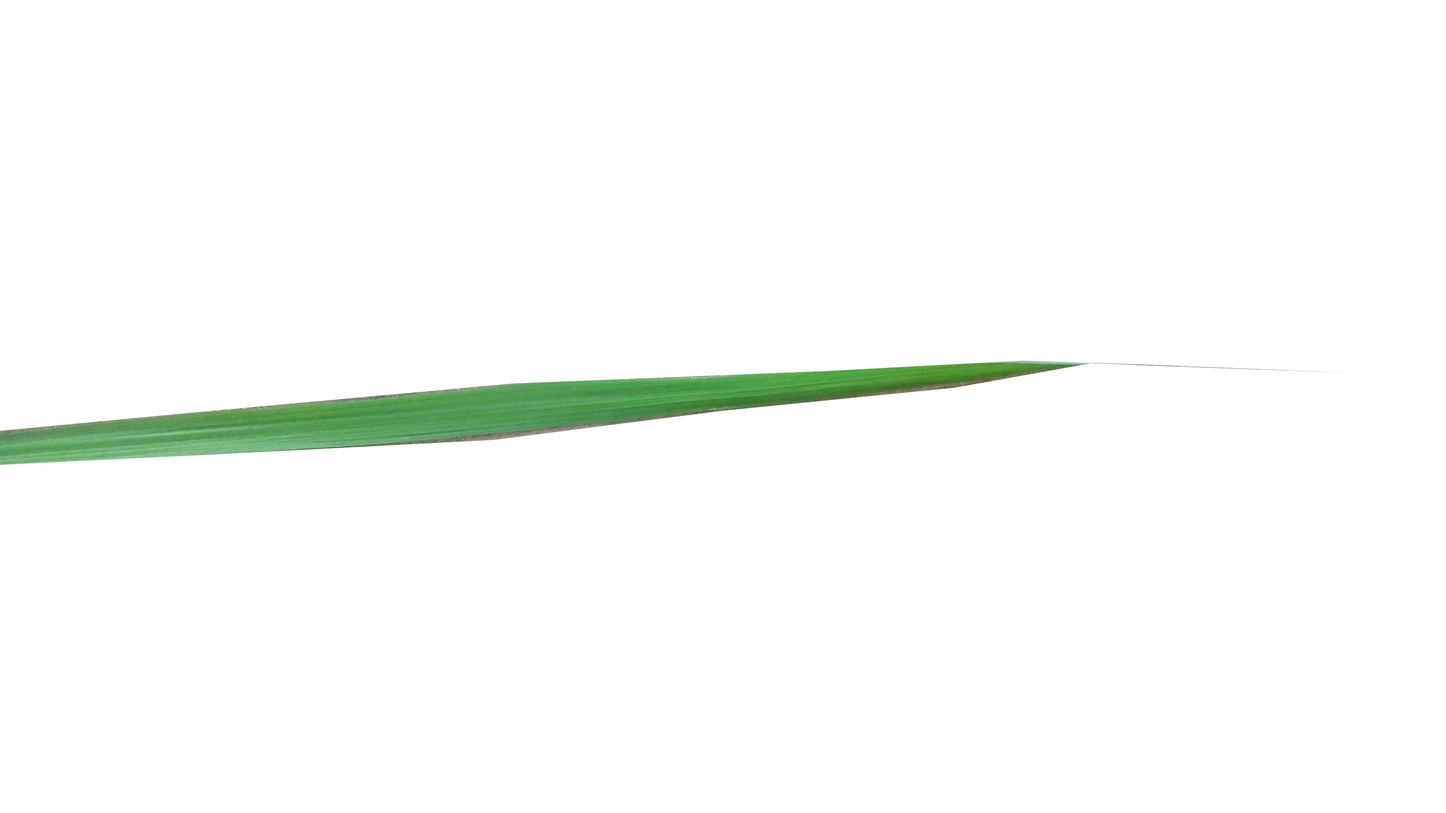Healthy: (0, 359, 1093, 464)
